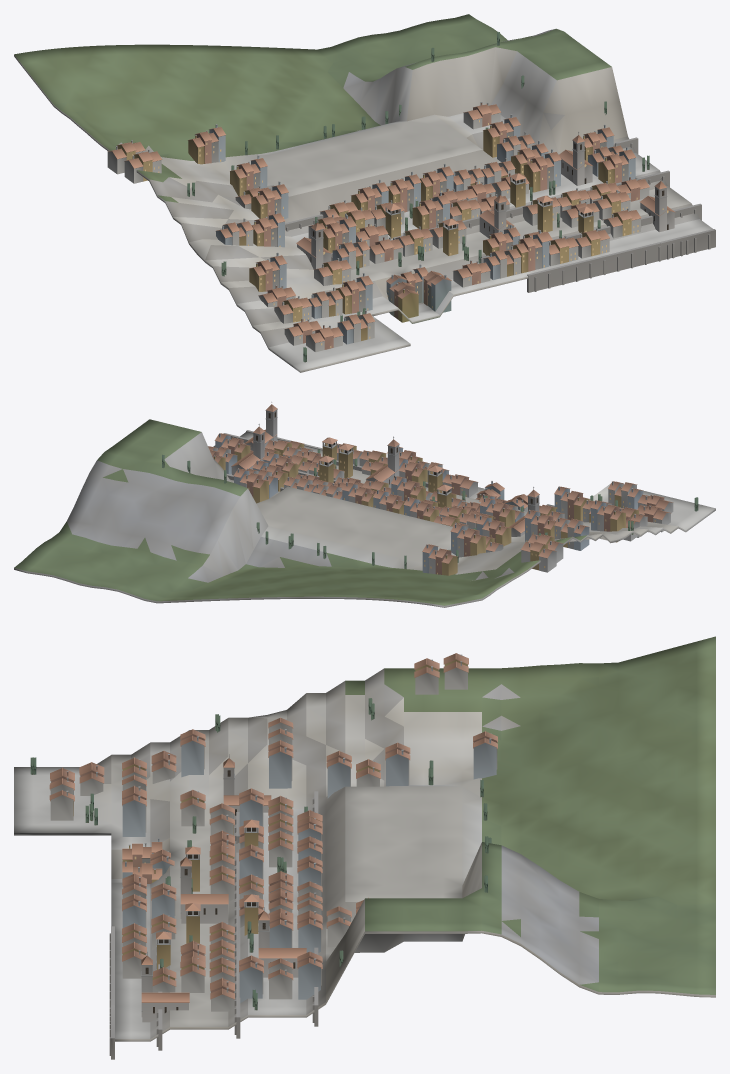
The model's file is old_town.glb.
3 views of the same model, one above another, from view 1: azimuth 30°, elevation 25°; view 2: azimuth 150°, elevation 25°; view 3: azimuth 270°, elevation 25° (orthographic). The views are drawn at different scales.
Visible parts, largest first — view 1: rock_old_town, mass_houses_tall_20.018, mass_houses_tall_20.009, mass_houses_tall_20.019, mass_terrace_wall_40.017, mass_terrace_wall_40.018, mass_parish.003, mass_houses_tall_20.004, mass_houses_tall_20.002, mass_houses_tall_20.001, mass_houses_tall_20.017, mass_houses_tall_20.007 (+39 smaller); view 2: rock_old_town, mass_houses_tall_20.017, mass_houses_tall_20.018, mass_houses_tall_20.004, mass_houses_tall_20.001, mass_houses_mixed_20.005, mass_houses_20.020, mass_houses_mixed_20.001, mass_houses_tall_20.016, mass_parish.002, mass_houses_tall_20.015, mass_houses_tall_20.008 (+21 smaller); view 3: rock_old_town, mass_parish.002, mass_parish.004, mass_parish.003, mass_houses_tall_20.001, mass_houses_tall_20.008, mass_houses_tall_20.018, mass_houses_tall_20.004, mass_houses_tall_20.014, mass_houses_tall_20.017, mass_houses_tall_20.007, mass_houses_mixed_20.001 (+22 smaller).
Part boxes in pixels (left/top/right/bottom): rock_old_town: left=14, top=14, right=712, bottom=372; mass_houses_tall_20.018: left=188, top=124, right=225, bottom=164; mass_houses_tall_20.009: left=523, top=149, right=561, bottom=192; mass_houses_tall_20.019: left=386, top=274, right=418, bottom=322; mass_terrace_wall_40.017: left=527, top=261, right=583, bottom=292; mass_terrace_wall_40.018: left=582, top=247, right=638, bottom=279; mass_parish.003: left=559, top=132, right=592, bottom=185; mass_houses_tall_20.004: left=249, top=252, right=286, bottom=291; mass_houses_tall_20.002: left=511, top=230, right=549, bottom=273; mass_houses_tall_20.001: left=335, top=273, right=373, bottom=314; mass_houses_tall_20.017: left=230, top=155, right=267, bottom=196; mass_houses_tall_20.007: left=598, top=147, right=635, bottom=183; rock_old_town: left=14, top=419, right=715, bottom=607; mass_houses_tall_20.017: left=450, top=523, right=485, bottom=557; mass_houses_tall_20.018: left=422, top=544, right=457, bottom=575; mass_houses_tall_20.004: left=590, top=500, right=625, bottom=542; mass_houses_tall_20.001: left=554, top=486, right=589, bottom=520; mass_houses_mixed_20.005: left=554, top=517, right=589, bottom=550; mass_houses_20.020: left=521, top=542, right=556, bottom=572; mass_houses_mixed_20.001: left=608, top=481, right=643, bottom=509; mass_houses_tall_20.016: left=233, top=468, right=269, bottom=503; mass_parish.002: left=366, top=436, right=399, bottom=487; mass_houses_tall_20.015: left=476, top=515, right=511, bottom=546; mass_houses_tall_20.008: left=524, top=509, right=555, bottom=541; rock_old_town: left=14, top=636, right=715, bottom=1041; mass_parish.002: left=180, top=853, right=228, bottom=923; mass_parish.004: left=141, top=952, right=189, bottom=1022; mass_parish.003: left=258, top=907, right=306, bottom=977; mass_houses_tall_20.001: left=122, top=788, right=146, bottom=836; mass_houses_tall_20.008: left=268, top=740, right=293, bottom=788; mass_houses_tall_20.018: left=473, top=731, right=497, bottom=779; mass_houses_tall_20.004: left=180, top=729, right=205, bottom=777; mass_houses_tall_20.014: left=297, top=951, right=322, bottom=999; mass_houses_tall_20.017: left=385, top=742, right=410, bottom=786; mass_houses_tall_20.007: left=239, top=955, right=263, bottom=1002; mass_houses_mixed_20.001: left=49, top=779, right=74, bottom=820.
Size of the model in its own units: 340 by 87.99 by 360.
